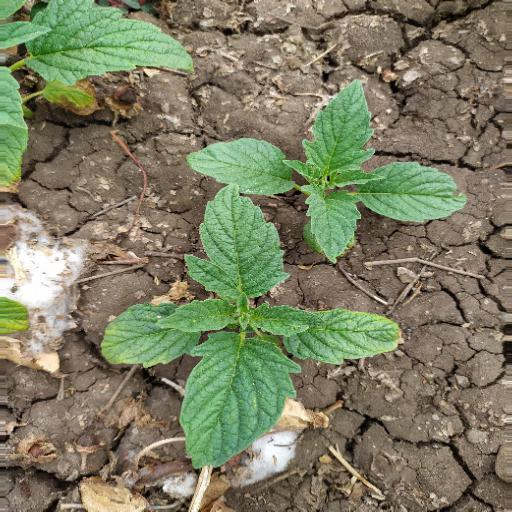crop: (101, 187, 402, 471), (189, 78, 467, 257)
